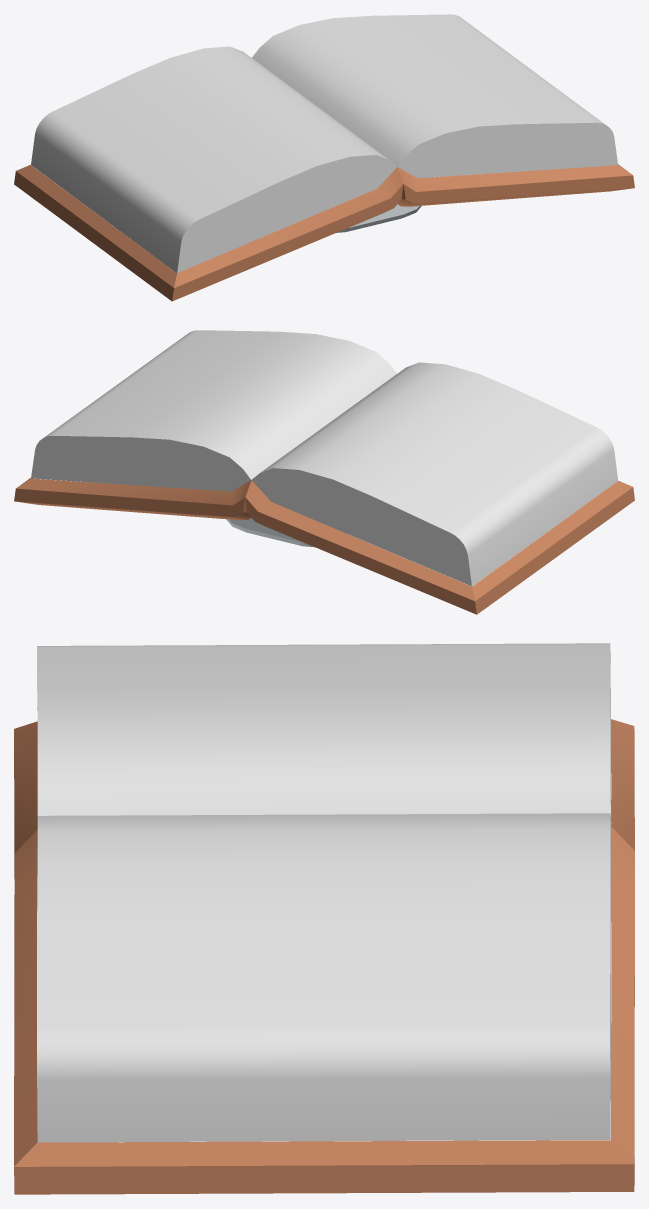
File: book.gltf
The picture shows the model from 3 angles, top to bottom: view 1: azimuth 30°, elevation 25°; view 2: azimuth 150°, elevation 25°; view 3: azimuth 270°, elevation 25°; orthographic projection. The views are drawn at different scales.
Visible parts, largest first — view 1: Cube012_1, Cube012, Cube012_2; view 2: Cube012_1, Cube012, Cube012_2; view 3: Cube012_1, Cube012.
Boxes of the visible parts, x1,y1,x2,y2 form: Cube012_1: [31, 14, 617, 272]; Cube012: [14, 164, 634, 301]; Cube012_2: [336, 167, 429, 232]; Cube012_1: [31, 330, 617, 586]; Cube012: [14, 478, 634, 614]; Cube012_2: [226, 513, 343, 547]; Cube012_1: [37, 643, 611, 1142]; Cube012: [14, 719, 634, 1194].
Size of the model in its own units: 1.93 by 0.4312 by 1.15.
